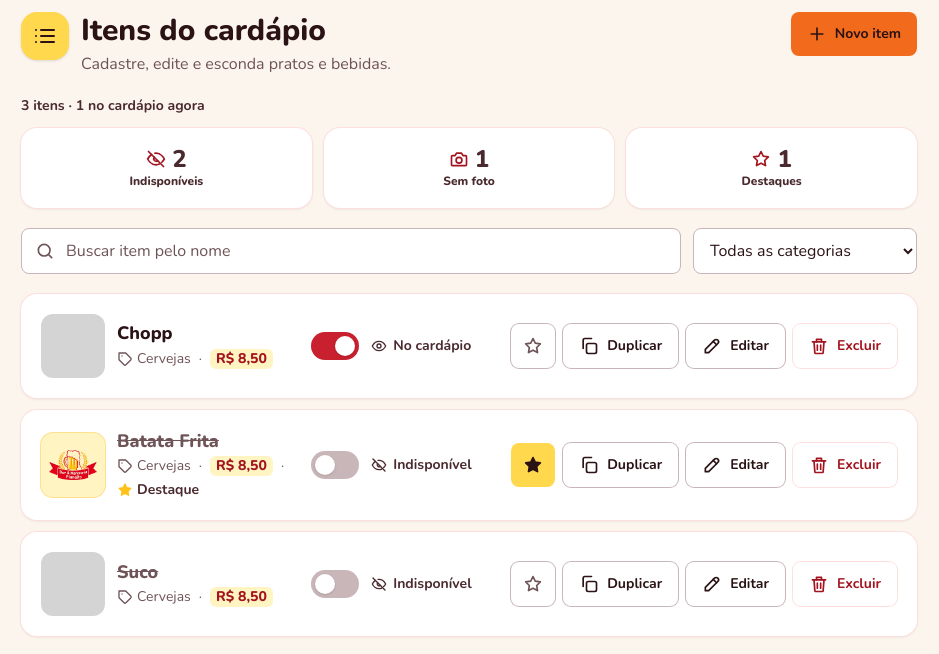
Test: ItemsPage (proprietário) › resumo e filtros rápidos › mostra totais e filtra por indisponíveis, sem foto e destaques (liga e desliga)
The width and height of the screenshot is (939, 654).
Check: the text "3 itens · 1 no cardápio agora" is shown, box x1=21 y1=96 x2=205 y2=114
Check: the button with aria-label "Sem foto: 1" is shown, box x1=324 y1=128 x2=614 y2=208
Click the button with aria-label "Indisponíveis: 2". click: (166, 168)
box: x1=21 y1=128 x2=312 y2=208
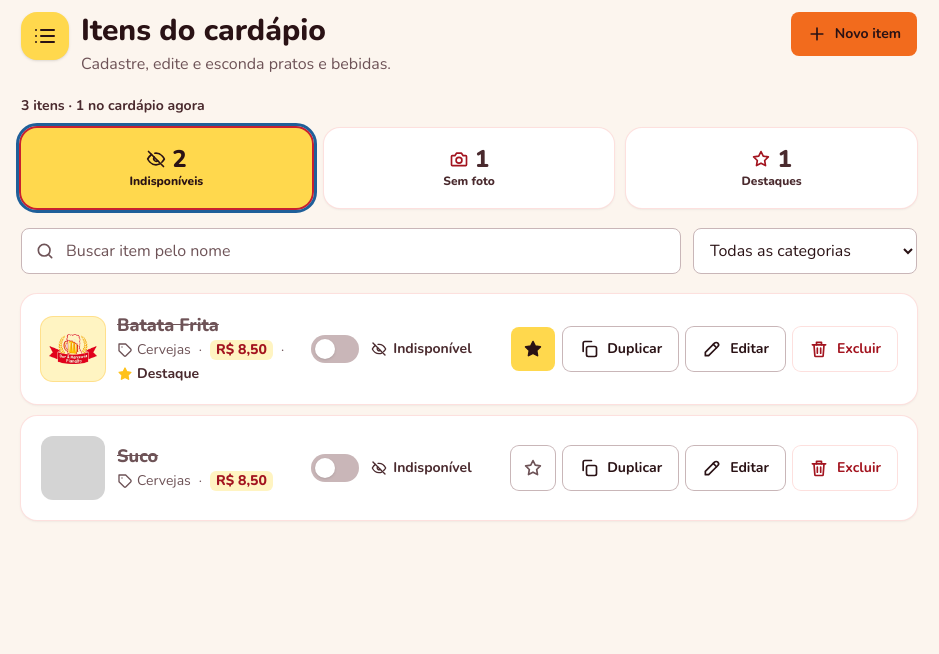
Check: the text "Batata Frita" is shown, box x1=117 y1=312 x2=219 y2=336
Check: the text "Chopp" is gone
Click the button with aria-label "Destaques: 1". click: (772, 168)
box: x1=626 y1=128 x2=917 y2=208
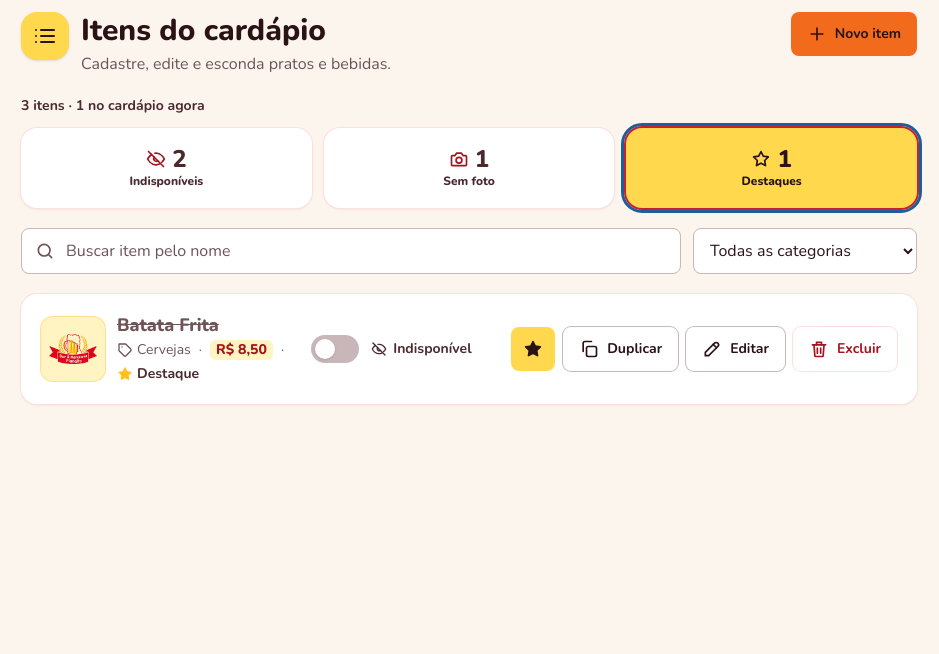
Check: the text "Batata Frita" is shown, box x1=117 y1=312 x2=219 y2=336
Check: the text "Suco" is gone
Click the button with aria-label "Destaques: 1". click: (772, 168)
box: x1=626 y1=128 x2=917 y2=208
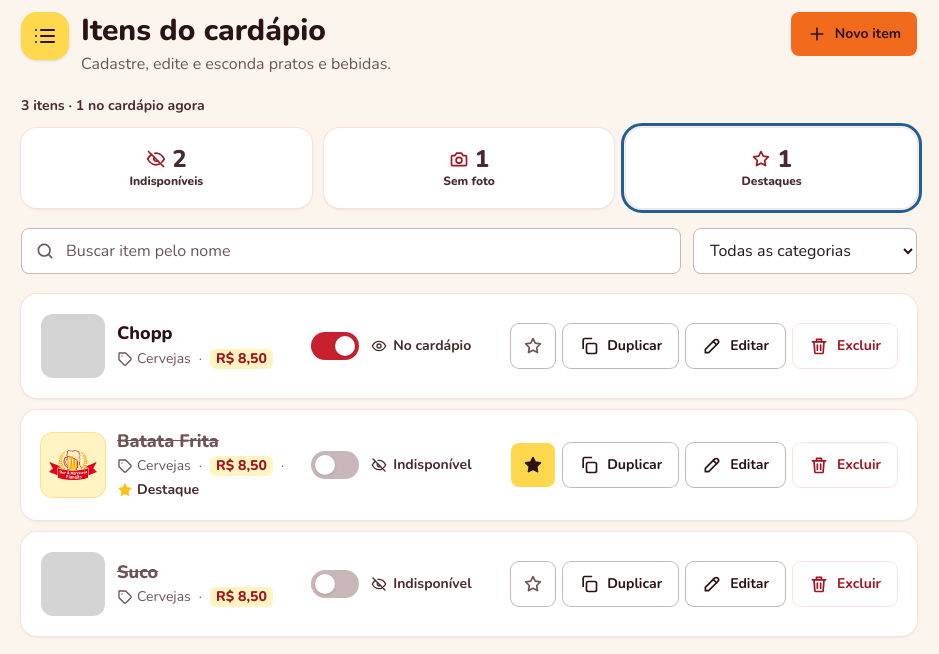
Check: the text "Chopp" is shown, box x1=117 y1=321 x2=173 y2=345
